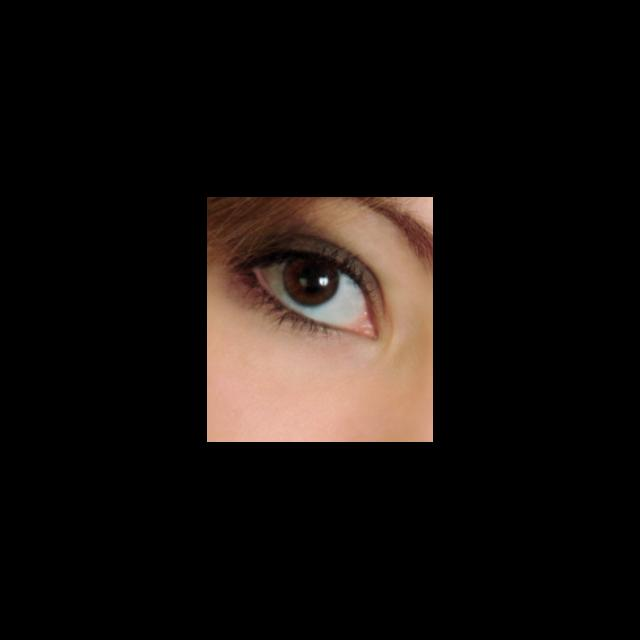eye: (259, 252, 367, 331)
iris: (283, 258, 339, 307)
